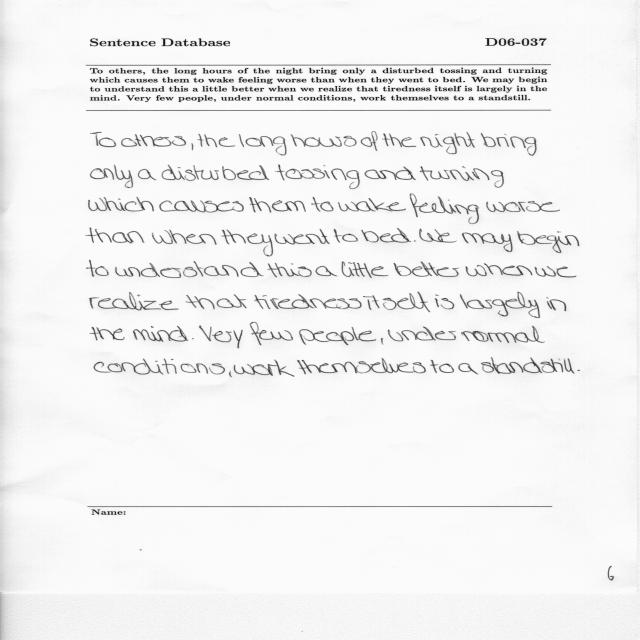word: (115, 261, 264, 278), (94, 358, 225, 375), (460, 292, 540, 318), (410, 194, 479, 224), (297, 358, 426, 374), (275, 165, 360, 189), (420, 166, 504, 188), (162, 165, 270, 181), (254, 294, 362, 309), (90, 292, 179, 310), (481, 357, 574, 374), (461, 326, 545, 343), (299, 327, 376, 345), (517, 231, 579, 253), (221, 230, 273, 256), (363, 292, 430, 312), (481, 133, 537, 156), (420, 132, 475, 154), (239, 134, 287, 156), (394, 261, 460, 277), (234, 360, 295, 377), (159, 201, 244, 213), (388, 327, 456, 342), (199, 326, 243, 349), (88, 197, 154, 212), (90, 165, 133, 188), (250, 322, 293, 345), (152, 230, 217, 245), (462, 233, 513, 252), (186, 295, 247, 310), (249, 197, 306, 213), (86, 228, 145, 243), (338, 198, 406, 211), (133, 326, 188, 342), (466, 263, 533, 276), (291, 134, 357, 147), (121, 134, 186, 147), (275, 229, 330, 244), (486, 201, 560, 212), (342, 261, 389, 278), (361, 228, 411, 243), (364, 166, 416, 180), (268, 263, 312, 277), (419, 229, 457, 243), (535, 266, 577, 278), (198, 134, 236, 147), (382, 134, 416, 148), (90, 327, 125, 340), (91, 132, 117, 147), (87, 260, 109, 277), (311, 197, 334, 212), (361, 131, 378, 151), (333, 229, 358, 242), (430, 360, 454, 373), (435, 295, 454, 310), (547, 297, 567, 311), (458, 363, 479, 374), (315, 266, 338, 276), (138, 169, 156, 180), (229, 372, 232, 377), (192, 144, 194, 151), (381, 338, 383, 345), (414, 240, 416, 242), (577, 370, 580, 371), (192, 338, 194, 339)
